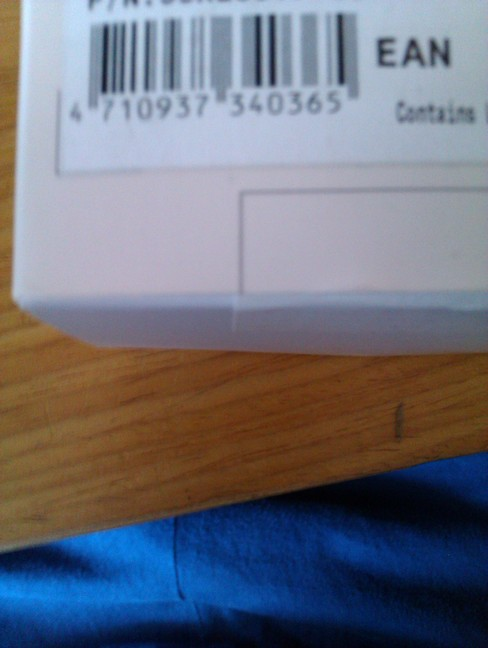detection: (65, 5, 366, 129)
